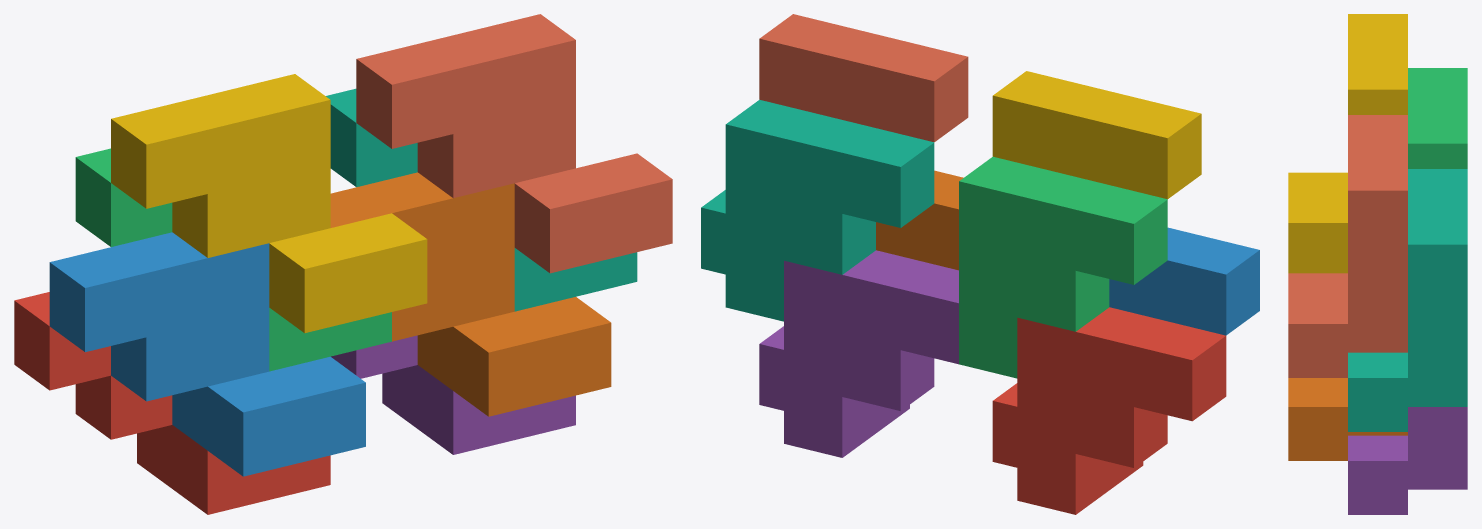
The model's file is tiling.obj.
The picture shows the model from 3 angles, left to right: view 1: azimuth 30°, elevation 25°; view 2: azimuth 150°, elevation 25°; view 3: azimuth 270°, elevation 25°; orthographic projection. The views are drawn at different scales.
Parts seen in each view (by area): view 1: copy_1_domain_4, copy_1_domain_8, copy_1_domain_2, copy_1_domain_6, copy_1_domain_1, copy_1_domain_5, copy_1_domain_3, copy_1_domain_7; view 2: copy_1_domain_1, copy_1_domain_7, copy_1_domain_3, copy_1_domain_5, copy_1_domain_8, copy_1_domain_4, copy_1_domain_2, copy_1_domain_6; view 3: copy_1_domain_8, copy_1_domain_7, copy_1_domain_4, copy_1_domain_5, copy_1_domain_3, copy_1_domain_6.
Part boxes in pixels (box(x1,y1,x2,y2)): copy_1_domain_4: box(111, 74, 427, 333); copy_1_domain_8: box(356, 14, 672, 273); copy_1_domain_2: box(49, 232, 365, 476); copy_1_domain_6: box(330, 172, 611, 416); copy_1_domain_1: box(14, 292, 330, 514); copy_1_domain_5: box(331, 335, 575, 454); copy_1_domain_3: box(75, 148, 391, 371); copy_1_domain_7: box(326, 88, 637, 311); copy_1_domain_1: box(992, 307, 1226, 514); copy_1_domain_7: box(701, 99, 934, 321); copy_1_domain_3: box(959, 156, 1167, 378); copy_1_domain_5: box(759, 250, 958, 457); copy_1_domain_8: box(759, 14, 968, 142); copy_1_domain_4: box(992, 71, 1201, 199); copy_1_domain_2: box(1109, 227, 1259, 335); copy_1_domain_6: box(876, 170, 963, 270); copy_1_domain_8: box(1288, 115, 1407, 377); copy_1_domain_7: box(1348, 169, 1467, 431); copy_1_domain_4: box(1288, 14, 1407, 273); copy_1_domain_5: box(1348, 407, 1467, 514); copy_1_domain_3: box(1408, 68, 1467, 168); copy_1_domain_6: box(1288, 378, 1407, 460).
Size of the model in its own units: 9 by 6 by 3.
